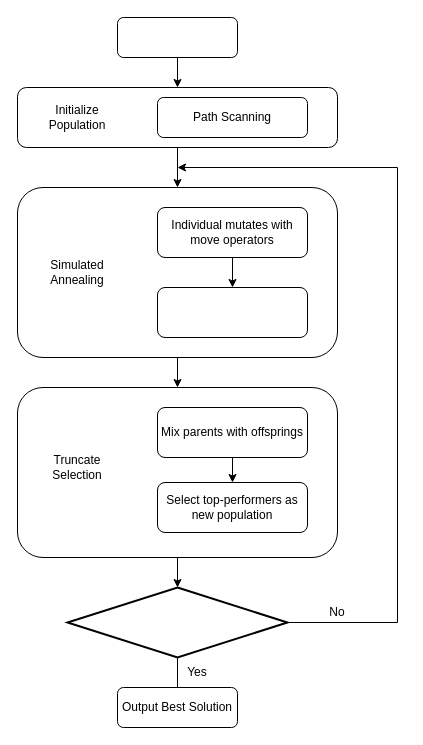
Some shapes in this 423 by 745 pixel diagram are drawn without their labels. The centre of each missing label's shape, as x and y in pixels:
Accept new solution on condition: (x=232, y=312)
CARP I nstance: (x=177, y=37)
Stop Criterion Met ?: (x=177, y=622)
